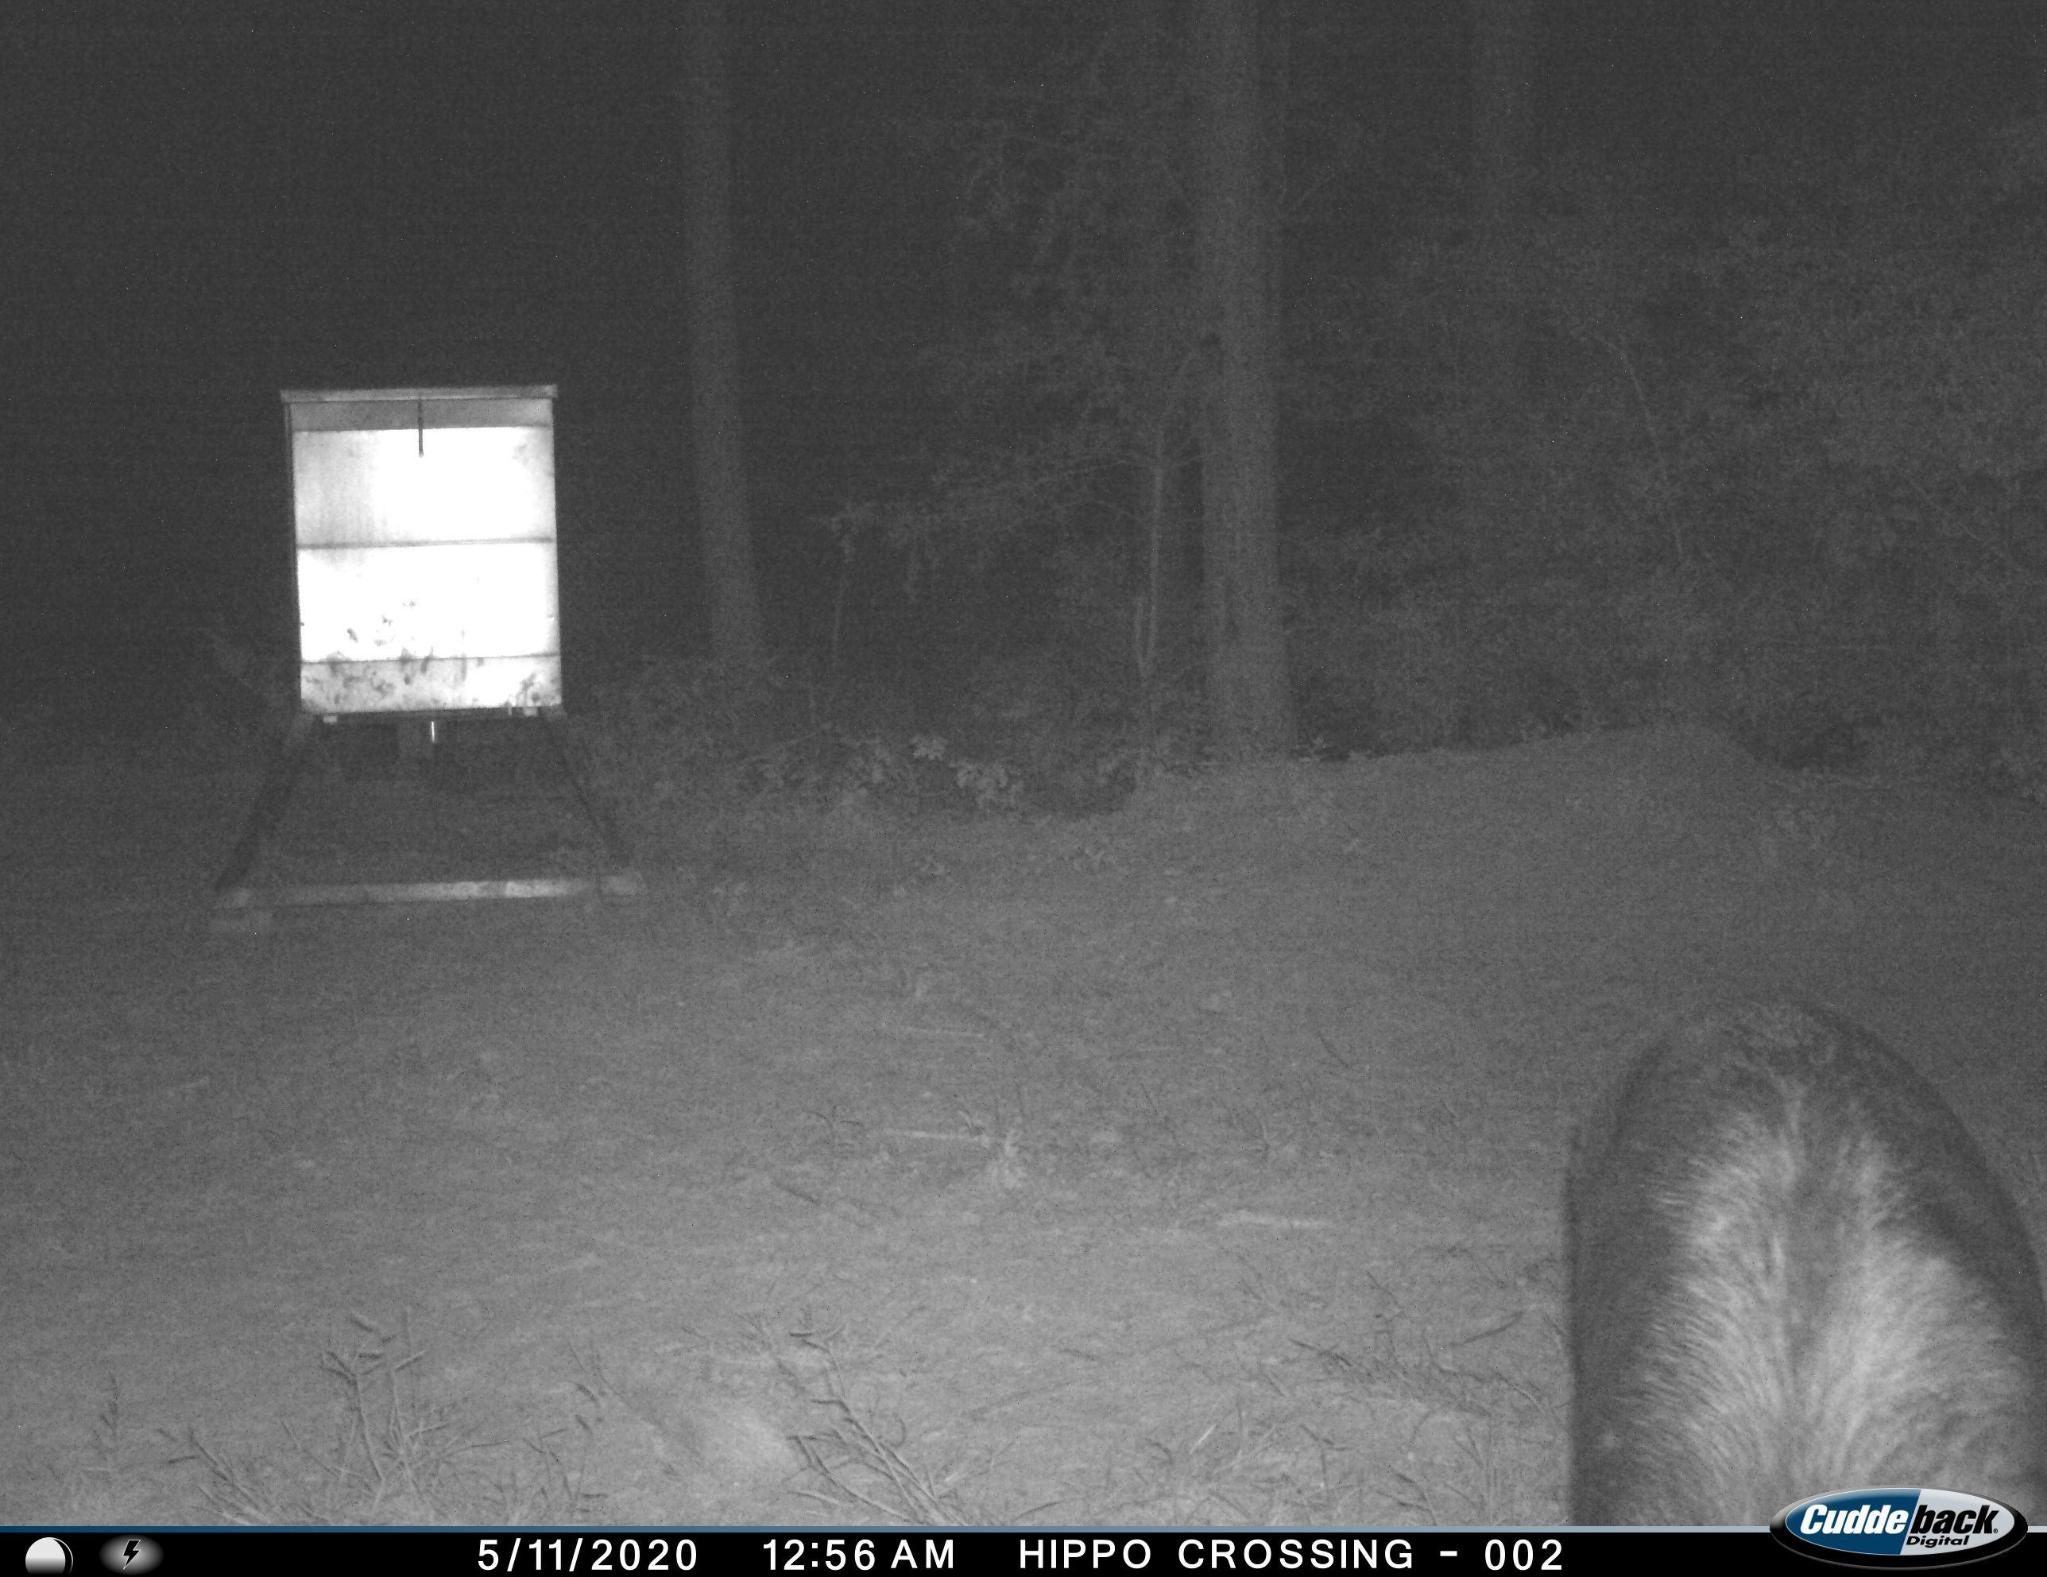Hog: (1557, 977, 2047, 1542)
